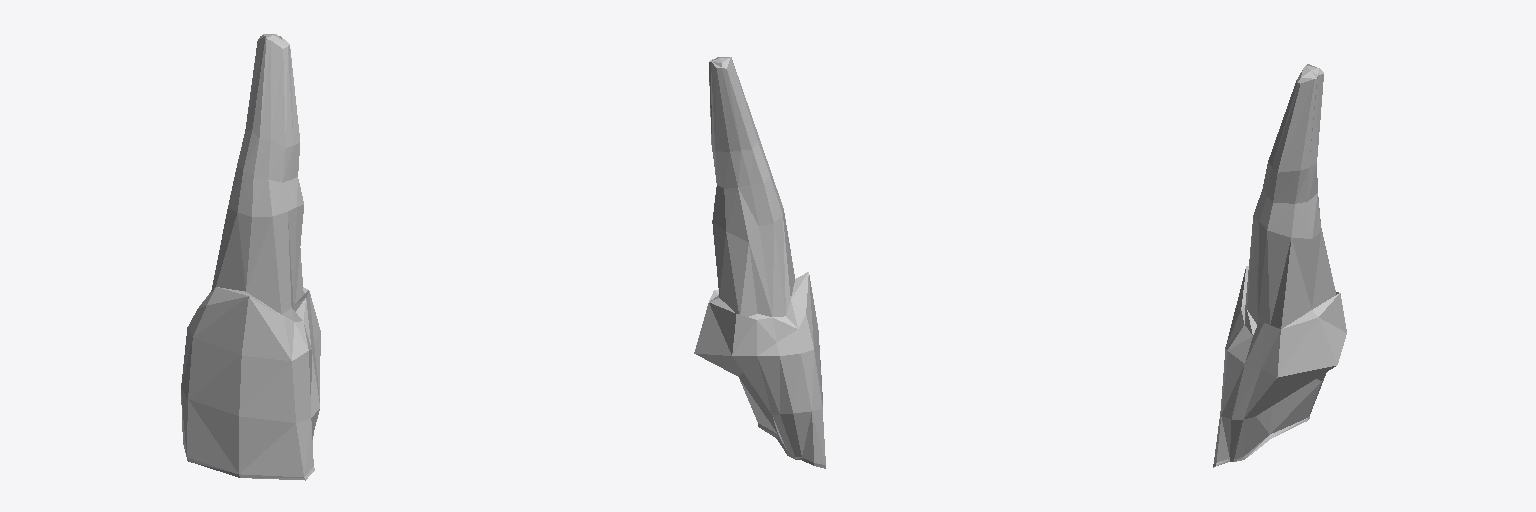
File: Upper_Incisor_Left_02.obj
3 views of the same model, side by side, from view 1: azimuth 30°, elevation 25°; view 2: azimuth 150°, elevation 25°; view 3: azimuth 270°, elevation 25° (orthographic).
Visible parts, largest first — view 1: Upper_Incisor_Left_02 Upper_Teeth Teeth group1; view 2: Upper_Incisor_Left_02 Upper_Teeth Teeth group1; view 3: Upper_Incisor_Left_02 Upper_Teeth Teeth group1.
Part boxes in pixels (left/top/right/bottom): Upper_Incisor_Left_02 Upper_Teeth Teeth group1: left=181, top=34, right=320, bottom=480; Upper_Incisor_Left_02 Upper_Teeth Teeth group1: left=694, top=57, right=825, bottom=468; Upper_Incisor_Left_02 Upper_Teeth Teeth group1: left=1213, top=64, right=1346, bottom=467.
Size of the model in its own units: 0.0846 by 0.2586 by 0.0772.